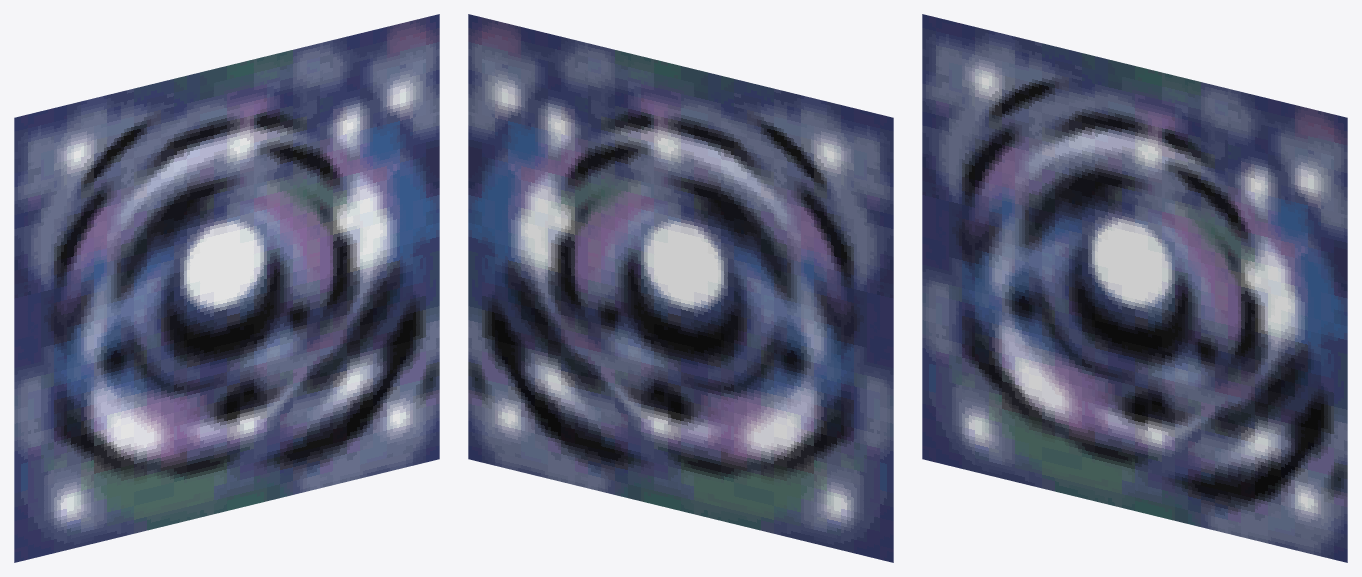
File: for_cv_ex5_r800.glb
3 renders of one model, left to right at view 1: azimuth 30°, elevation 25°; view 2: azimuth 150°, elevation 25°; view 3: azimuth 330°, elevation 25°, orthographic.
Visible parts, largest first — view 1: for_cv_ex5_r800; view 2: for_cv_ex5_r800; view 3: for_cv_ex5_r800.
Part boxes in pixels (x1,y1,x2,y2): for_cv_ex5_r800: (14, 14, 439, 562); for_cv_ex5_r800: (468, 14, 893, 562); for_cv_ex5_r800: (922, 14, 1347, 562).
Bounding box in the file's own units: 100 × 100 × 0.
Materials: 1 (1 with a texture image).
